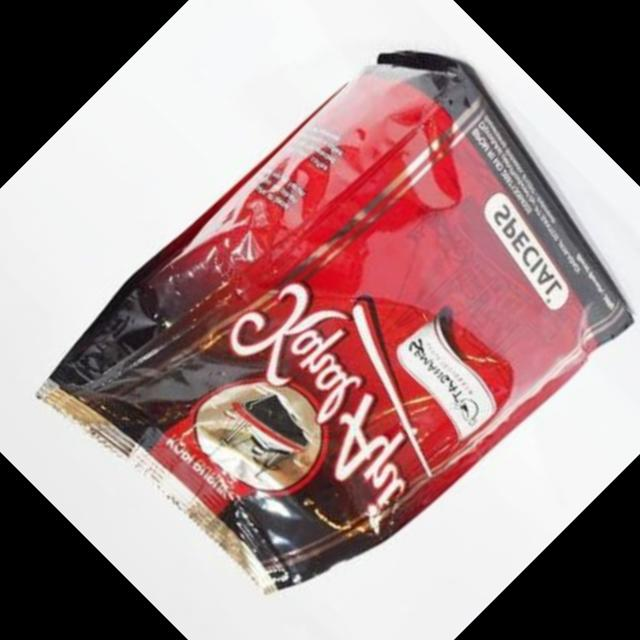KemasanPlastik: (19, 0, 640, 640)
